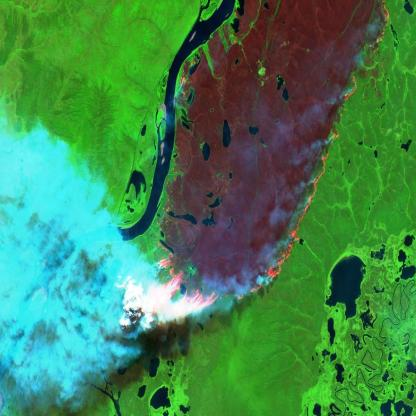fire: (119, 0, 403, 334)
